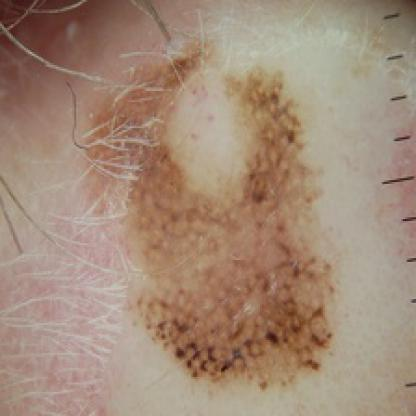malignant: (56, 15, 351, 397)
